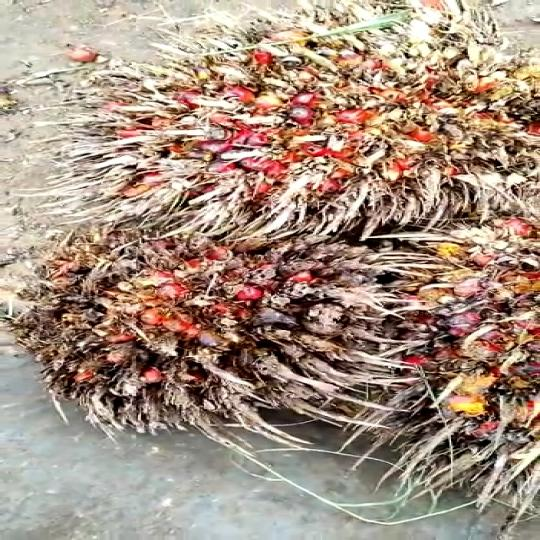terlalu masak: (42, 40, 540, 236), (0, 208, 428, 426)
